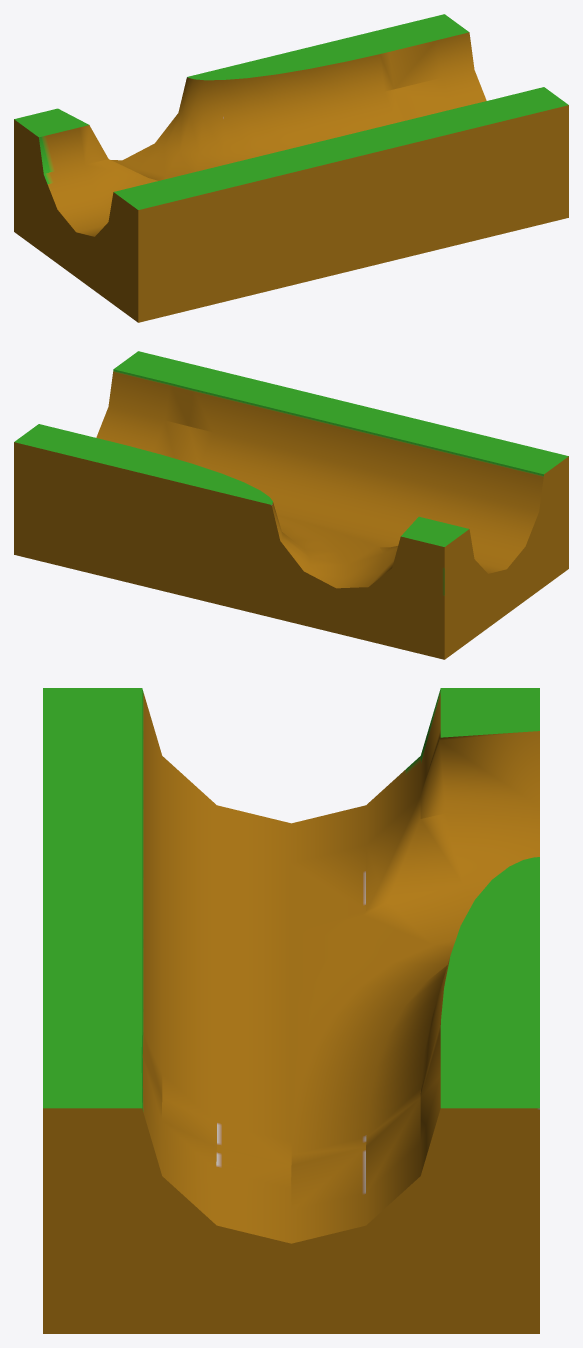
The model's file is threeway.fbx.
3 views of the same model, one above another, from view 1: azimuth 30°, elevation 25°; view 2: azimuth 150°, elevation 25°; view 3: azimuth 270°, elevation 25° (orthographic). The views are drawn at different scales.
Parts seen in each view (by area): view 1: Cube_1_1.039; view 2: Cube_1_1.039; view 3: Cube_1_1.039.
Part boxes in pixels (x1=…): Cube_1_1.039: x1=14, y1=14, x2=568, y2=322; Cube_1_1.039: x1=14, y1=351, x2=568, y2=659; Cube_1_1.039: x1=43, y1=688, x2=539, y2=1333.
Bounding box in the file's own units: 400 × 100 × 200.
